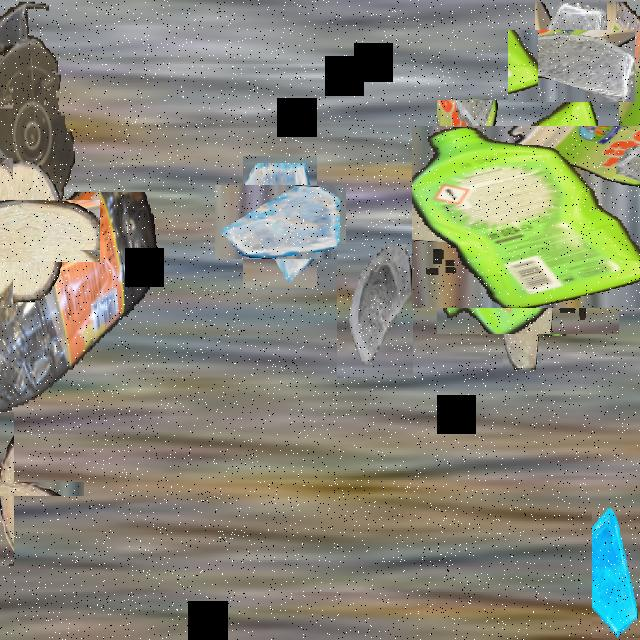glass: (228, 171, 332, 273), (337, 244, 413, 378), (521, 16, 621, 116), (592, 507, 640, 638), (0, 192, 47, 273)
plastic: (424, 113, 632, 321), (0, 192, 161, 441), (557, 2, 640, 247), (0, 2, 76, 236)
wood: (0, 180, 81, 281), (503, 238, 541, 370), (0, 447, 49, 530)
